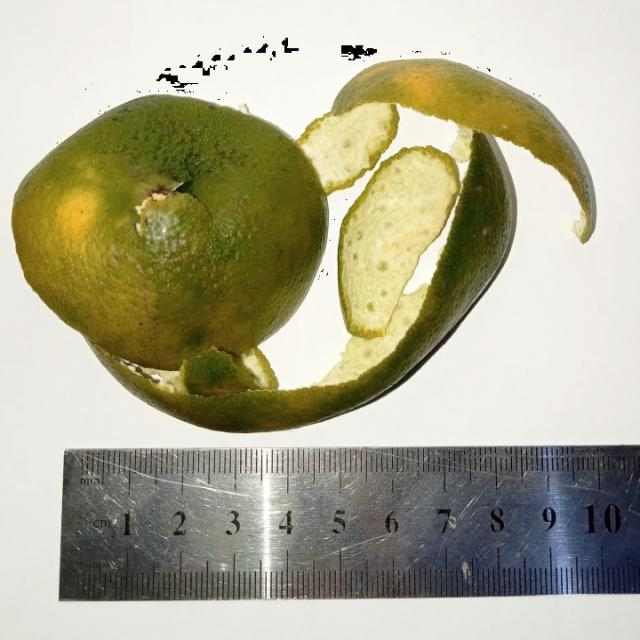Organik: (17, 90, 329, 352), (301, 45, 619, 233), (104, 337, 432, 423), (429, 116, 540, 362), (328, 136, 440, 341)
